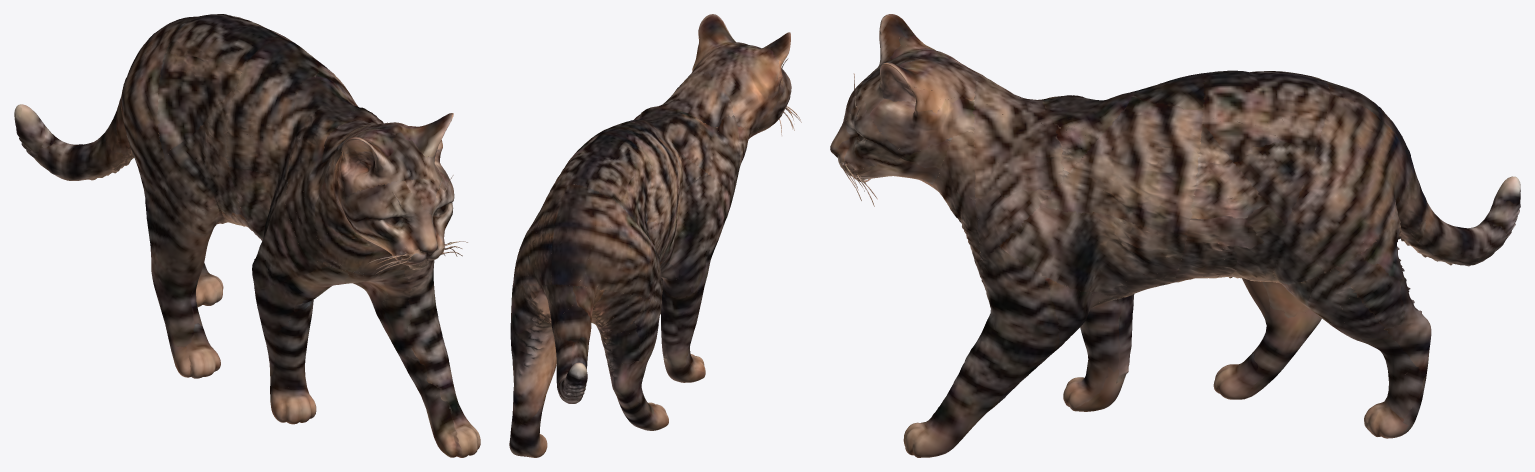
Rendered from sketchfab-domestic-cat.glb.
3 views of the same model, side by side, from view 1: azimuth 30°, elevation 25°; view 2: azimuth 150°, elevation 25°; view 3: azimuth 270°, elevation 25° (orthographic). The views are drawn at different scales.
Visible parts, largest first — view 1: mesh_node_0; view 2: mesh_node_0; view 3: mesh_node_0.
Part boxes in pixels (x1=…): mesh_node_0: x1=14, y1=14, x2=480, y2=457; mesh_node_0: x1=509, y1=14, x2=801, y2=457; mesh_node_0: x1=830, y1=14, x2=1520, y2=457.
Bounding box in the file's own units: 0.6314 × 1.14 × 1.9.
Materials: 1 (1 with a texture image).
